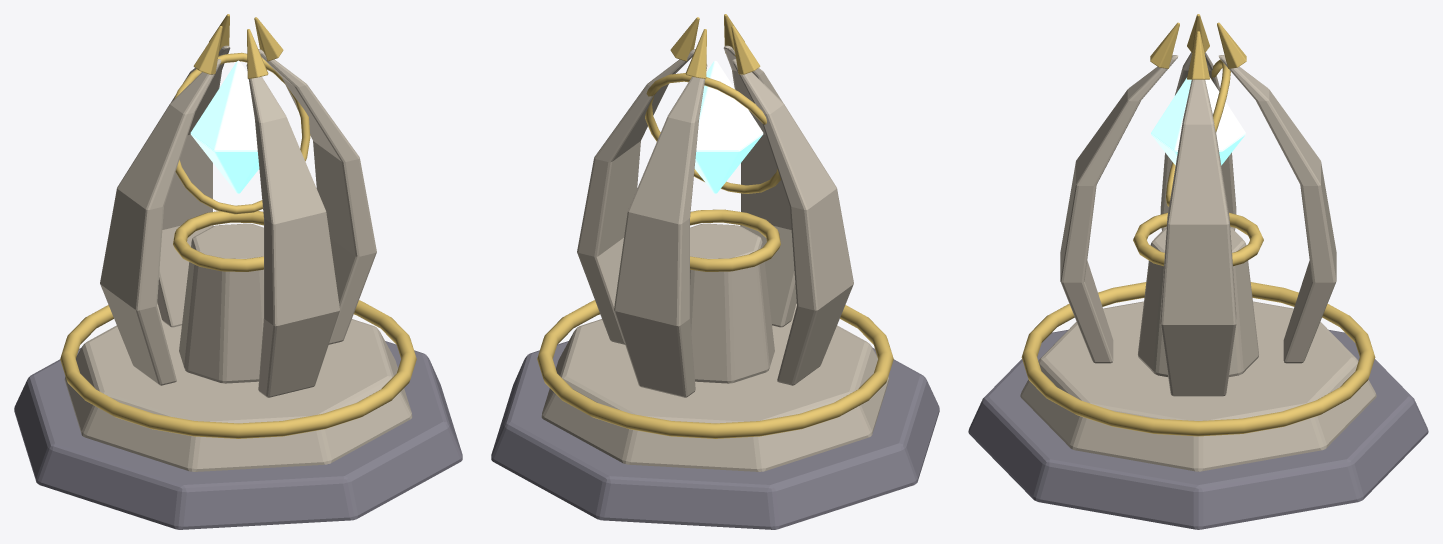
The model's file is sky_shrine.glb.
3 views of the same model, side by side, from view 1: azimuth 30°, elevation 25°; view 2: azimuth 150°, elevation 25°; view 3: azimuth 270°, elevation 25° (orthographic).
Parts seen in each view (by area): view 1: BaseLower, BaseUpper, PetalBody3, PetalBody2, Pedestal, PetalBody0, BaseGoldRing, PetalBody1, CrystalTop, PedestalRim, CoreHalo, CrystalBot (+3 smaller); view 2: BaseLower, BaseUpper, PetalBody1, PetalBody2, Pedestal, PetalBody0, BaseGoldRing, PetalBody3, CrystalTop, PedestalRim, CoreHalo, CrystalBot (+3 smaller); view 3: BaseLower, BaseUpper, PetalBody0, BaseGoldRing, PetalBody1, PetalBody3, Pedestal, CrystalTop, PedestalRim, PetalBody2, CoreHalo, PetalTip0 (+2 smaller).
Boxes of the visible parts, x1,y1,x2,y2 form: BaseLower: (14, 341, 462, 529); BaseUpper: (64, 303, 412, 471); PetalBody3: (246, 64, 339, 397); PetalBody2: (100, 59, 221, 385); Pedestal: (179, 223, 263, 383); PetalBody0: (258, 49, 376, 344); BaseGoldRing: (60, 300, 416, 438); PetalBody1: (157, 45, 230, 327); CrystalTop: (190, 60, 257, 150); PedestalRim: (173, 211, 263, 271); CoreHalo: (174, 52, 310, 214); CrystalBot: (190, 134, 259, 193); BaseLower: (491, 341, 939, 529); BaseUpper: (541, 303, 889, 471); PetalBody1: (614, 64, 707, 397); PetalBody2: (732, 59, 853, 385); Pedestal: (690, 223, 774, 383); PetalBody0: (577, 49, 695, 344); BaseGoldRing: (537, 300, 893, 438); PetalBody3: (723, 45, 796, 327); CrystalTop: (696, 60, 763, 150); PedestalRim: (690, 209, 780, 271); CoreHalo: (645, 73, 780, 193); CrystalBot: (694, 134, 763, 193); BaseLower: (968, 329, 1428, 529); BaseUpper: (1020, 301, 1376, 471); PetalBody0: (1160, 79, 1236, 396); BaseGoldRing: (1021, 282, 1375, 436); PetalBody1: (1218, 55, 1336, 363); PetalBody3: (1060, 55, 1178, 363); Pedestal: (1138, 228, 1258, 376); CrystalTop: (1151, 78, 1245, 150); PedestalRim: (1133, 212, 1263, 266); PetalBody2: (1160, 50, 1236, 230); CoreHalo: (1166, 59, 1230, 206); PetalTip0: (1187, 31, 1209, 79).
Size of the model in its own units: 2.67 by 2.63 by 2.67.
